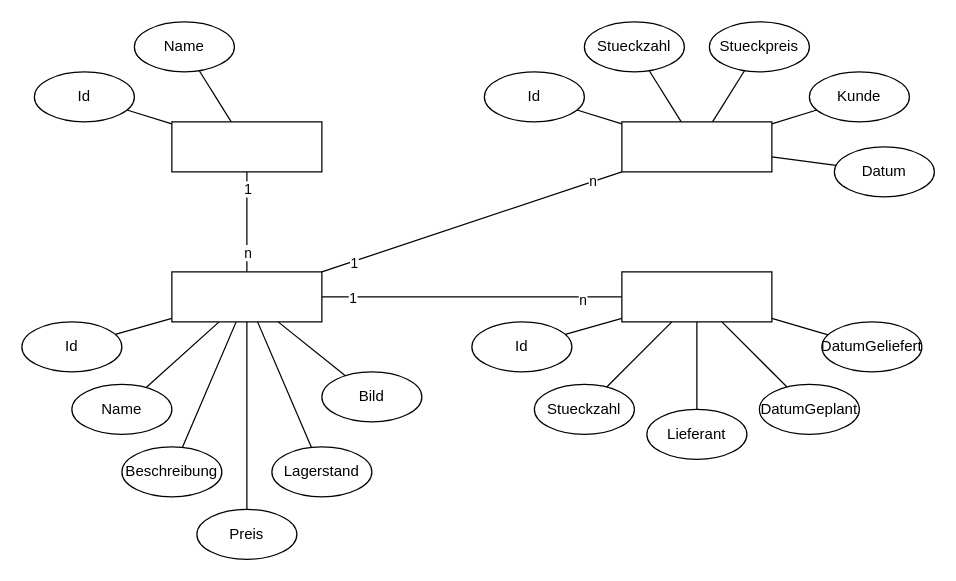
Image size: 956x581. Some labels were removed from this diagram. Here are the shapes that lost their labels. From the top down, the centre of each, then its label:
point (246, 146): Kategorie
point (696, 146): Verkauf
point (246, 296): Produkt
point (696, 296): Nachbestellung
